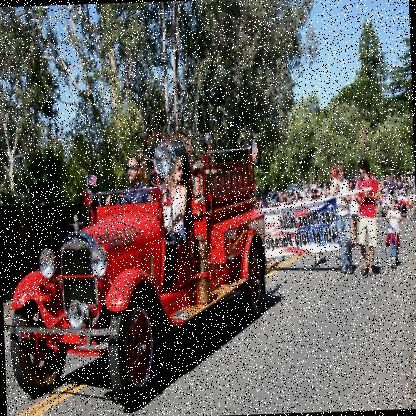Car: (266, 191, 290, 205)
